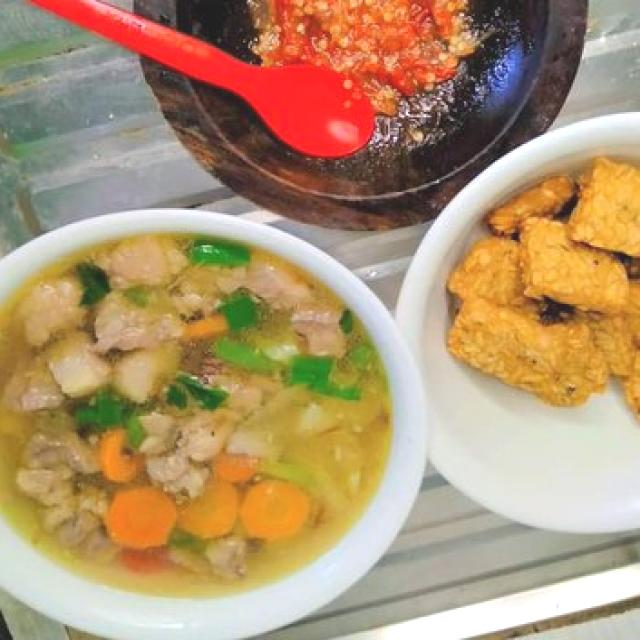sop: (0, 224, 402, 603)
